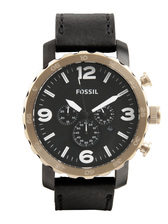watch: (19, 13, 162, 214)
